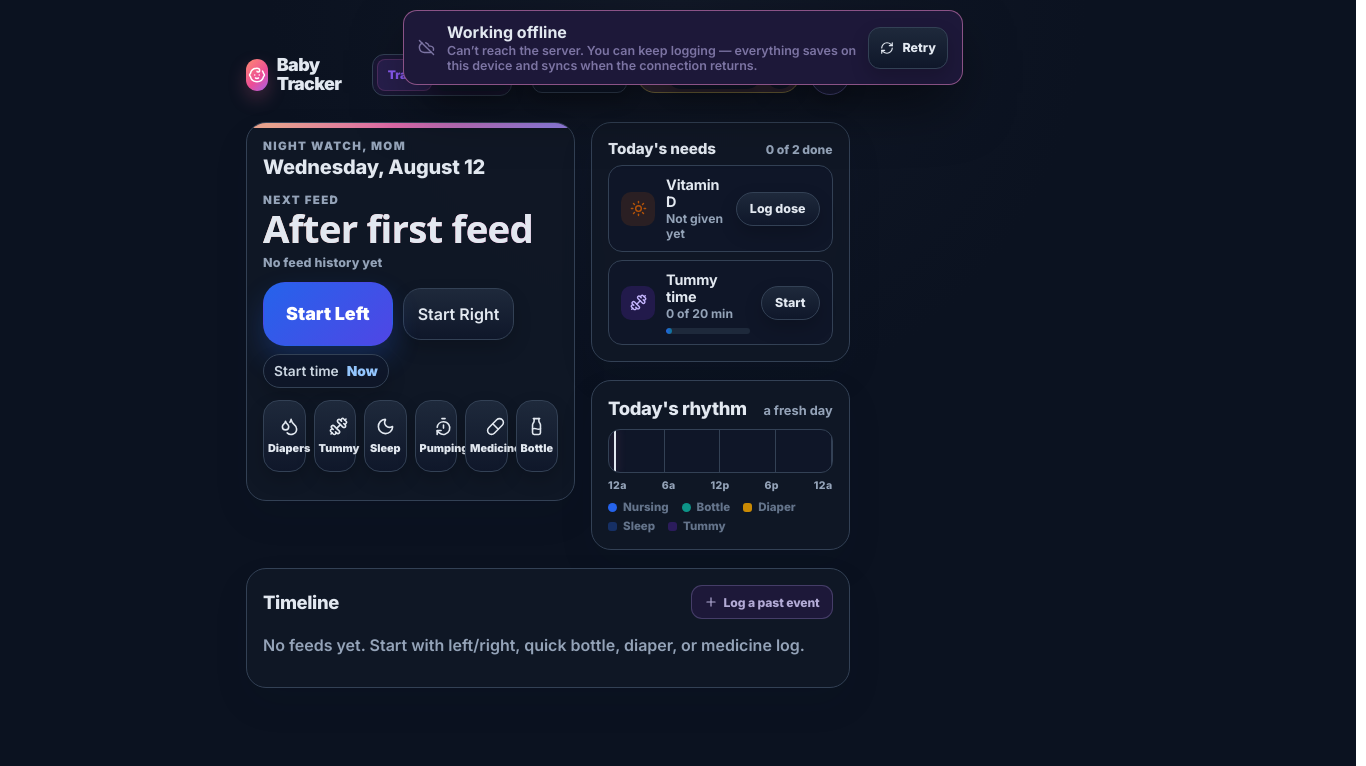
Test case: caregiver today brief › pulls up the live feed timer from the start button and returns to the brief after saving
Click the button with aria-label "Start suggested side: Left". click: [328, 314]
box: [263,282,393,346]
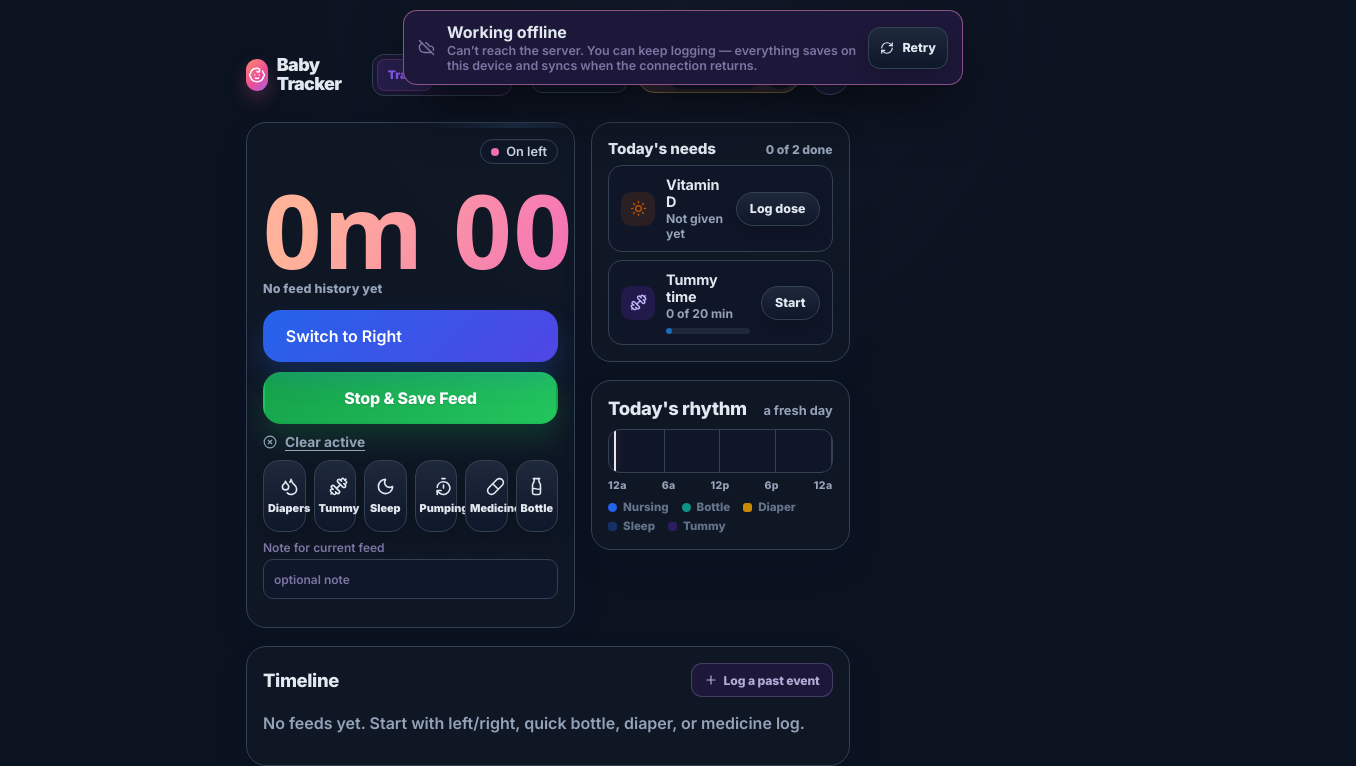
Result: the element with class "today-brief" is gone
Result: the element with class "is-live" is shown at [263,185,575,275]
Click the button with aria-label "End feed". click: [410, 398]
box: [263,372,558,424]
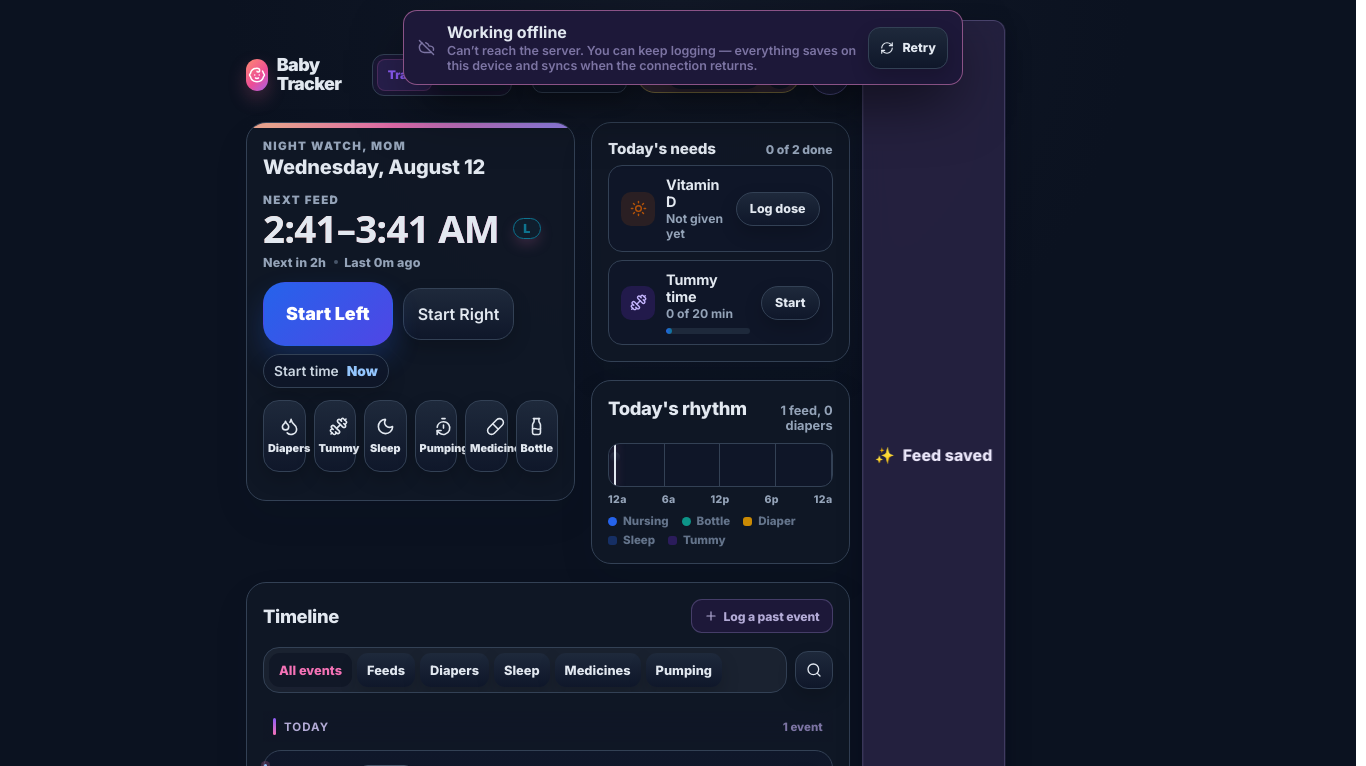
Result: the element with class "timer-shell" is gone
Result: the element with class "today-brief" is shown at [246,122,575,501]
Result: the text "Feed saved" is shown at [903,445,992,465]
